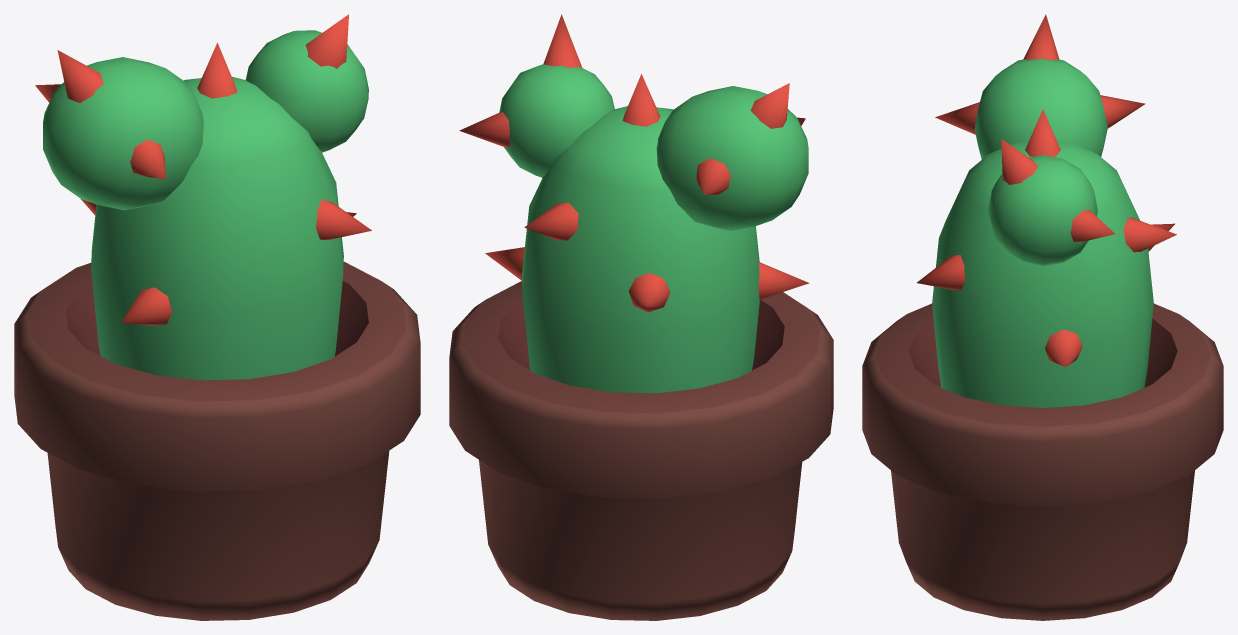
The model's file is Cactus.fbx.
3 renders of one model, left to right at view 1: azimuth 30°, elevation 25°; view 2: azimuth 150°, elevation 25°; view 3: azimuth 270°, elevation 25°, orthographic. The views are drawn at different scales.
Visible parts, largest first — view 1: Cactus; view 2: Cactus; view 3: Cactus.
Part boxes in pixels (bbox=[...]): Cactus: bbox=[14, 14, 420, 620]; Cactus: bbox=[449, 14, 833, 620]; Cactus: bbox=[862, 14, 1223, 620].
Bounding box in the file's own units: 66.19 × 97.41 × 66.19.
